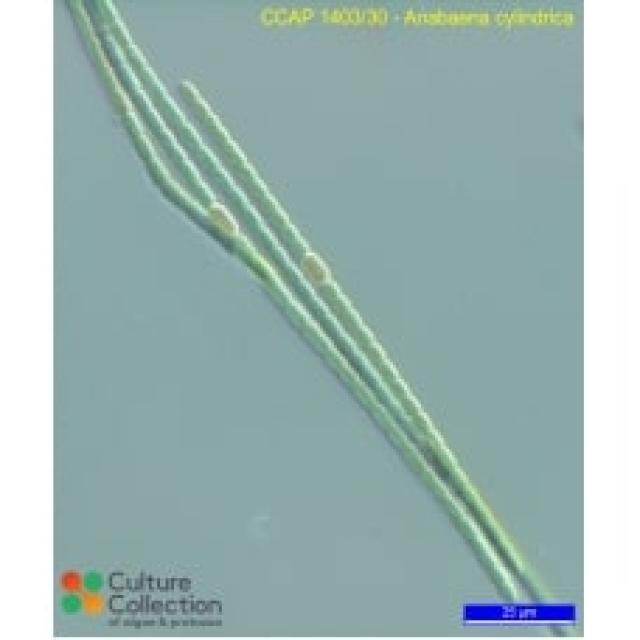Blue Green Algae: (300, 317, 326, 348), (138, 68, 166, 96), (275, 258, 300, 284), (385, 424, 407, 452), (244, 208, 264, 236), (163, 95, 182, 124), (354, 382, 376, 407), (118, 62, 137, 90), (368, 404, 387, 432), (284, 300, 300, 332), (177, 123, 199, 146), (146, 154, 163, 182), (199, 143, 216, 171), (191, 177, 210, 202), (323, 348, 342, 373), (224, 137, 242, 163), (208, 112, 225, 138), (228, 188, 245, 213), (118, 112, 137, 132), (362, 340, 379, 362), (132, 87, 149, 109), (346, 303, 360, 329), (157, 126, 171, 152), (270, 205, 286, 227), (317, 278, 331, 303), (135, 132, 149, 157), (180, 76, 193, 101), (379, 362, 393, 385), (289, 233, 303, 255), (404, 398, 421, 416), (388, 379, 402, 399), (168, 143, 182, 163), (331, 294, 345, 312), (242, 160, 252, 185), (194, 95, 202, 121), (261, 191, 272, 208)
